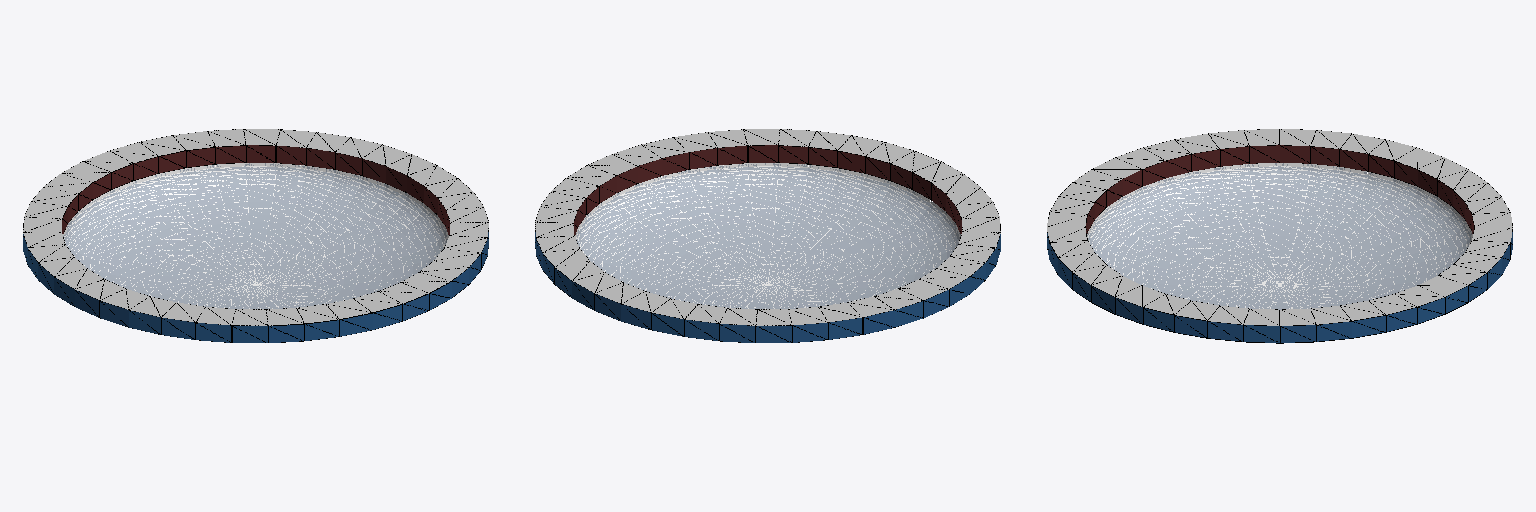
3 renders of one model, left to right at view 1: azimuth 30°, elevation 25°; view 2: azimuth 150°, elevation 25°; view 3: azimuth 270°, elevation 25°, orthographic.
Visible parts, largest first — view 1: Bowl, Ring; view 2: Bowl, Ring; view 3: Bowl, Ring.
Boxes of the visible parts, box(x1,y1,x2,y2) form: Bowl: box(63, 163, 448, 308); Ring: box(23, 129, 488, 342); Bowl: box(575, 163, 960, 308); Ring: box(535, 129, 1000, 342); Bowl: box(1087, 163, 1472, 309); Ring: box(1047, 129, 1512, 343).
Bounding box in the file's own units: 12 × 1.62 × 12.
Materials: 2 (2 with a texture image).